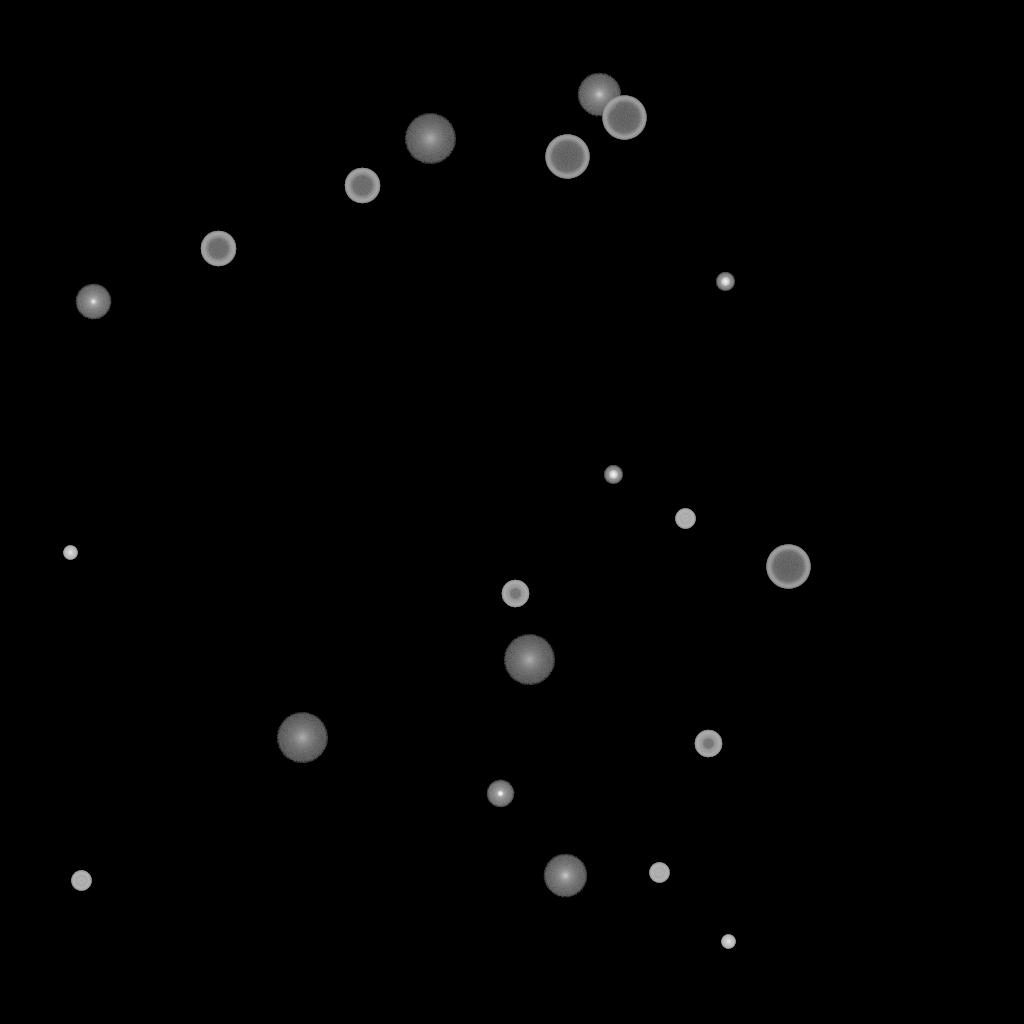depth:-10: (486, 780, 514, 808)
depth:-20: (604, 466, 622, 484), (716, 273, 734, 291)
depth:-30: (721, 935, 735, 949), (63, 546, 77, 560)
depth:-40: (675, 509, 695, 529), (649, 863, 669, 883), (71, 871, 91, 891)
depth:-50: (694, 730, 722, 758), (501, 580, 529, 608)
depth:-60: (344, 168, 380, 204), (200, 231, 236, 267)
depth:-70: (545, 135, 589, 179), (766, 545, 810, 589), (602, 96, 646, 140)
depth:0: (75, 284, 111, 320)
depth:10: (543, 854, 587, 898), (577, 73, 621, 117)
depth:20: (276, 713, 328, 763), (404, 114, 456, 164), (503, 635, 555, 685)
